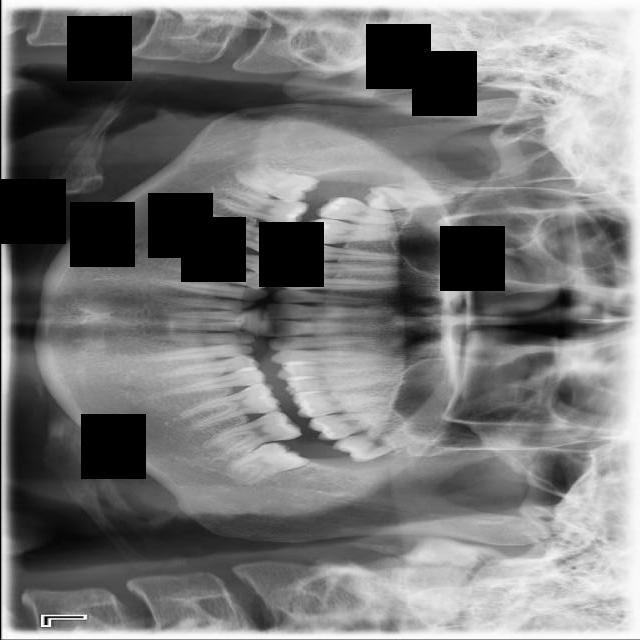3M ESPE Implant: (363, 186, 465, 213)
52: (233, 376, 284, 427), (246, 216, 295, 263), (260, 194, 310, 233), (289, 387, 339, 421), (314, 193, 367, 223), (304, 412, 355, 443), (302, 216, 350, 247), (285, 257, 332, 280), (294, 242, 339, 263)
73: (69, 609, 77, 613)
BioHorizons Implant: (304, 405, 414, 444)
BioLife Implant: (329, 417, 441, 468)
Biomet 3i Implant: (222, 430, 310, 492)
Blue Sky Bio Implant: (200, 405, 303, 462)
Caries: (314, 192, 431, 234)
Implant: (209, 186, 311, 233)
Keystone Dental Implant: (233, 151, 320, 211)
